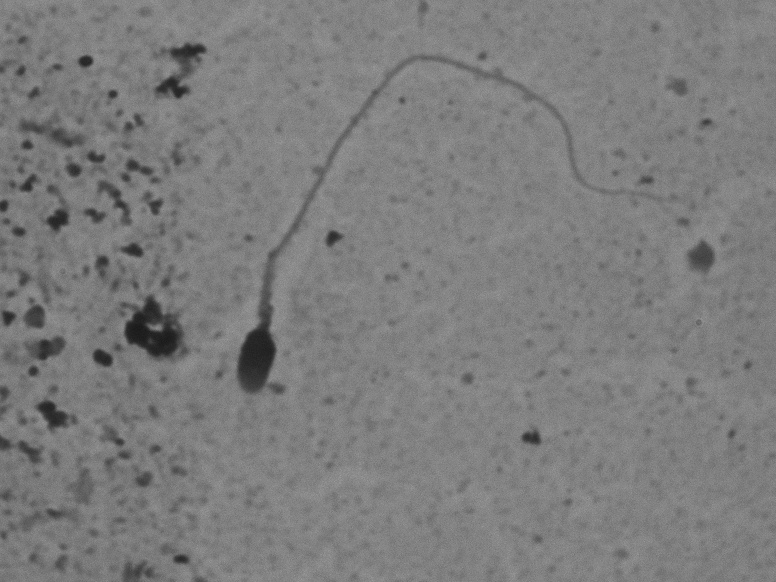Abnormal: (223, 22, 681, 415)
